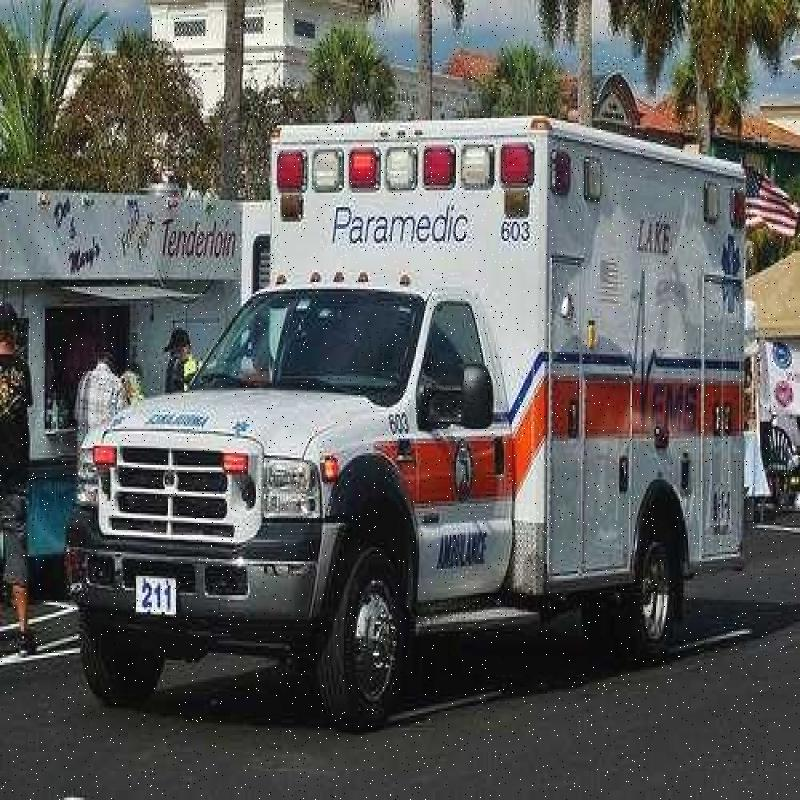AmbulanceSiren: (268, 133, 537, 204)
